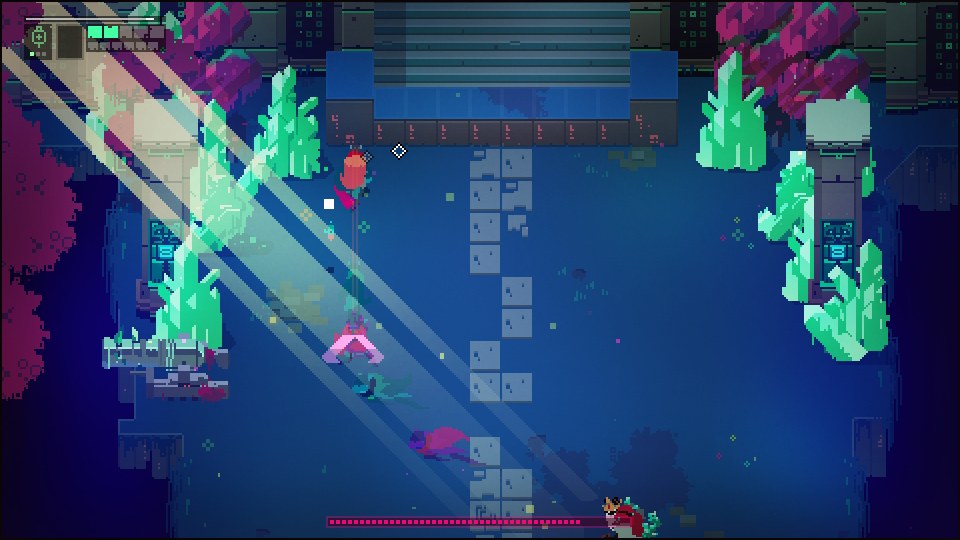hanged_man: (593, 488, 662, 540)
player: (336, 141, 372, 202)
